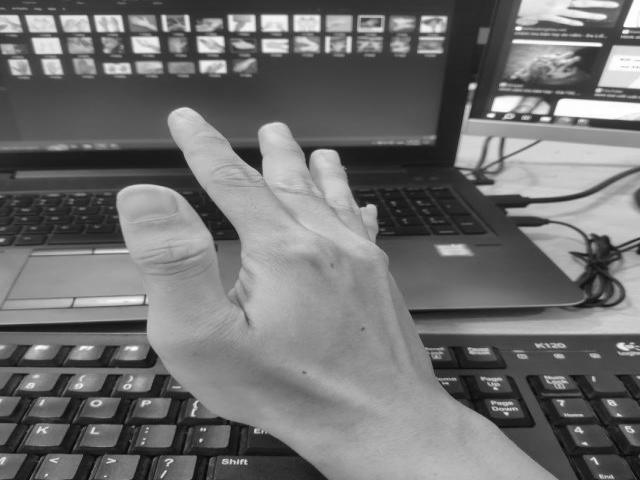not-gloved: (112, 107, 466, 474)
